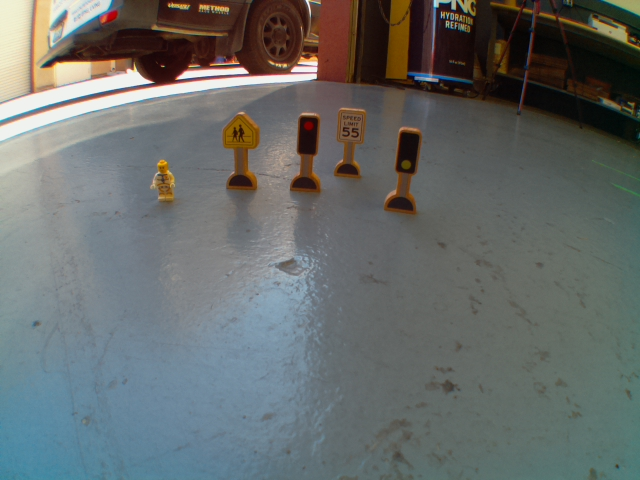Green Traffic Light: (392, 125, 423, 177)
Red Traffic Light: (296, 113, 318, 157)
Speed Limit 55: (335, 106, 366, 147)
YIELD: (221, 112, 261, 152)
person: (146, 158, 178, 202)
